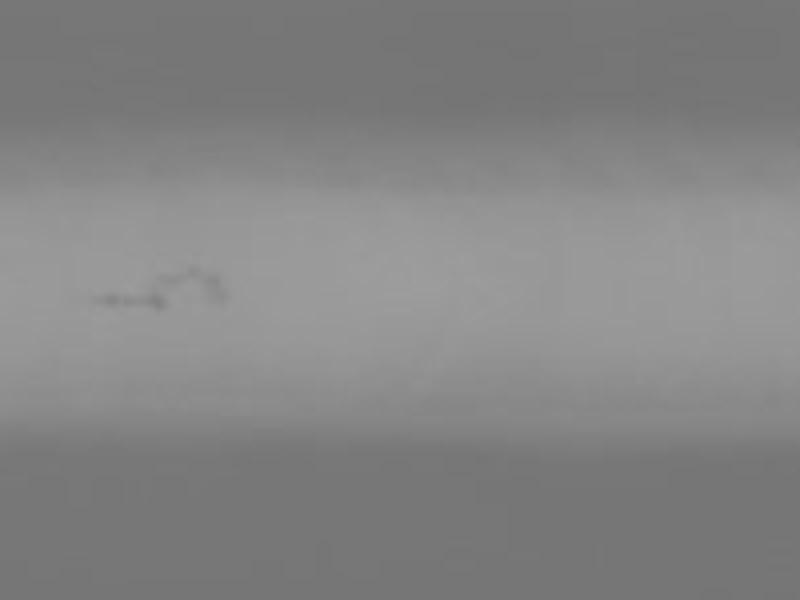defect: (99, 290, 165, 316), (146, 261, 200, 279), (205, 274, 233, 308)
